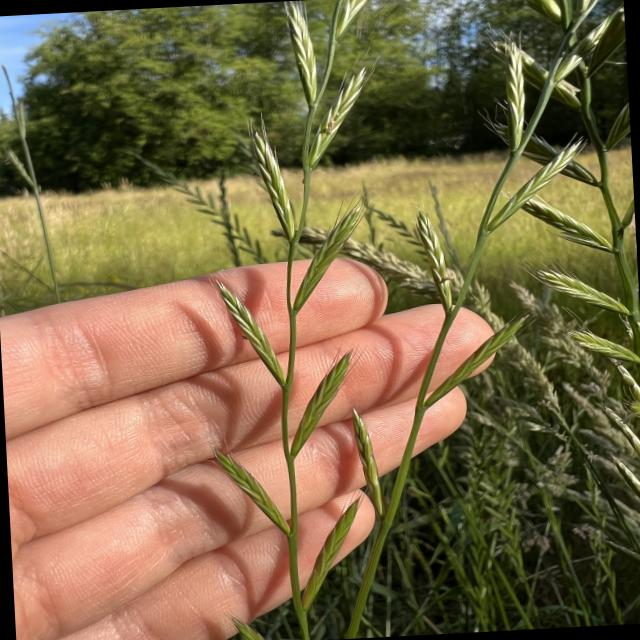Lolium: (344, 0, 638, 541), (183, 0, 427, 640)
